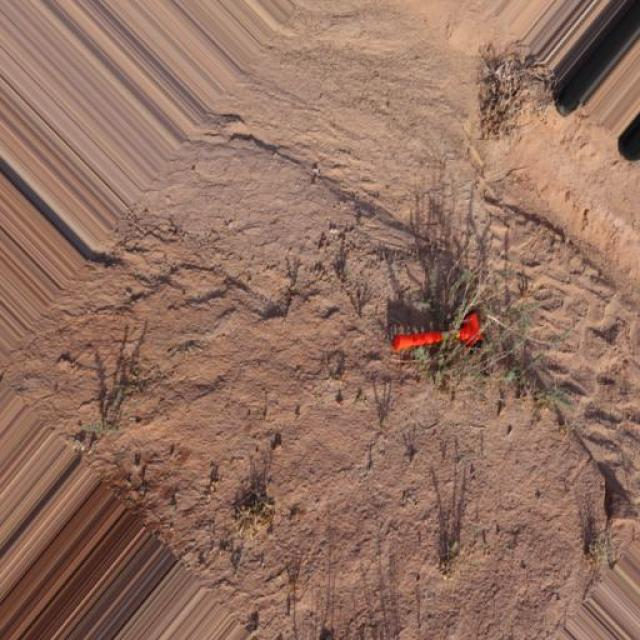mallet: (385, 299, 484, 355)
